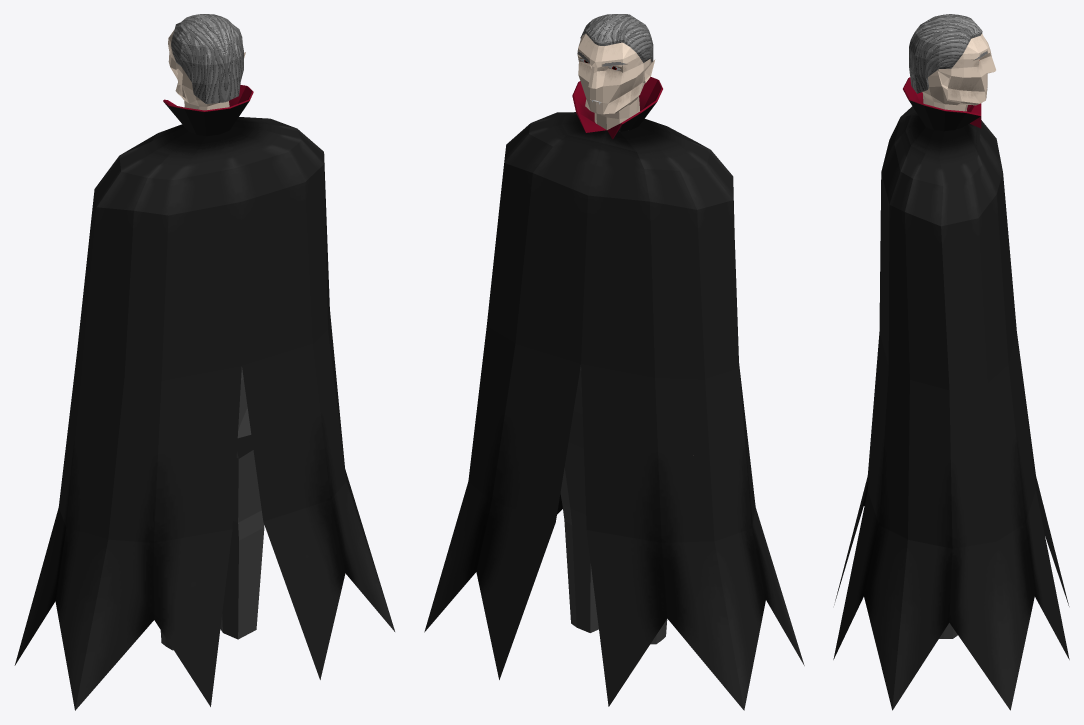
Rendered from vampire.fbx.
3 views of the same model, side by side, from view 1: azimuth 30°, elevation 25°; view 2: azimuth 150°, elevation 25°; view 3: azimuth 270°, elevation 25° (orthographic). The views are drawn at different scales.
Visible parts, largest first — view 1: Vampiro; view 2: Vampiro; view 3: Vampiro.
Boxes of the visible parts, left/top/right/bottom form: Vampiro: left=14, top=14, right=394, bottom=710; Vampiro: left=424, top=14, right=804, bottom=710; Vampiro: left=833, top=14, right=1069, bottom=710.
Bounding box in the file's own units: 133 × 87.44 × 251.
Materials: 2 (1 with a texture image).
